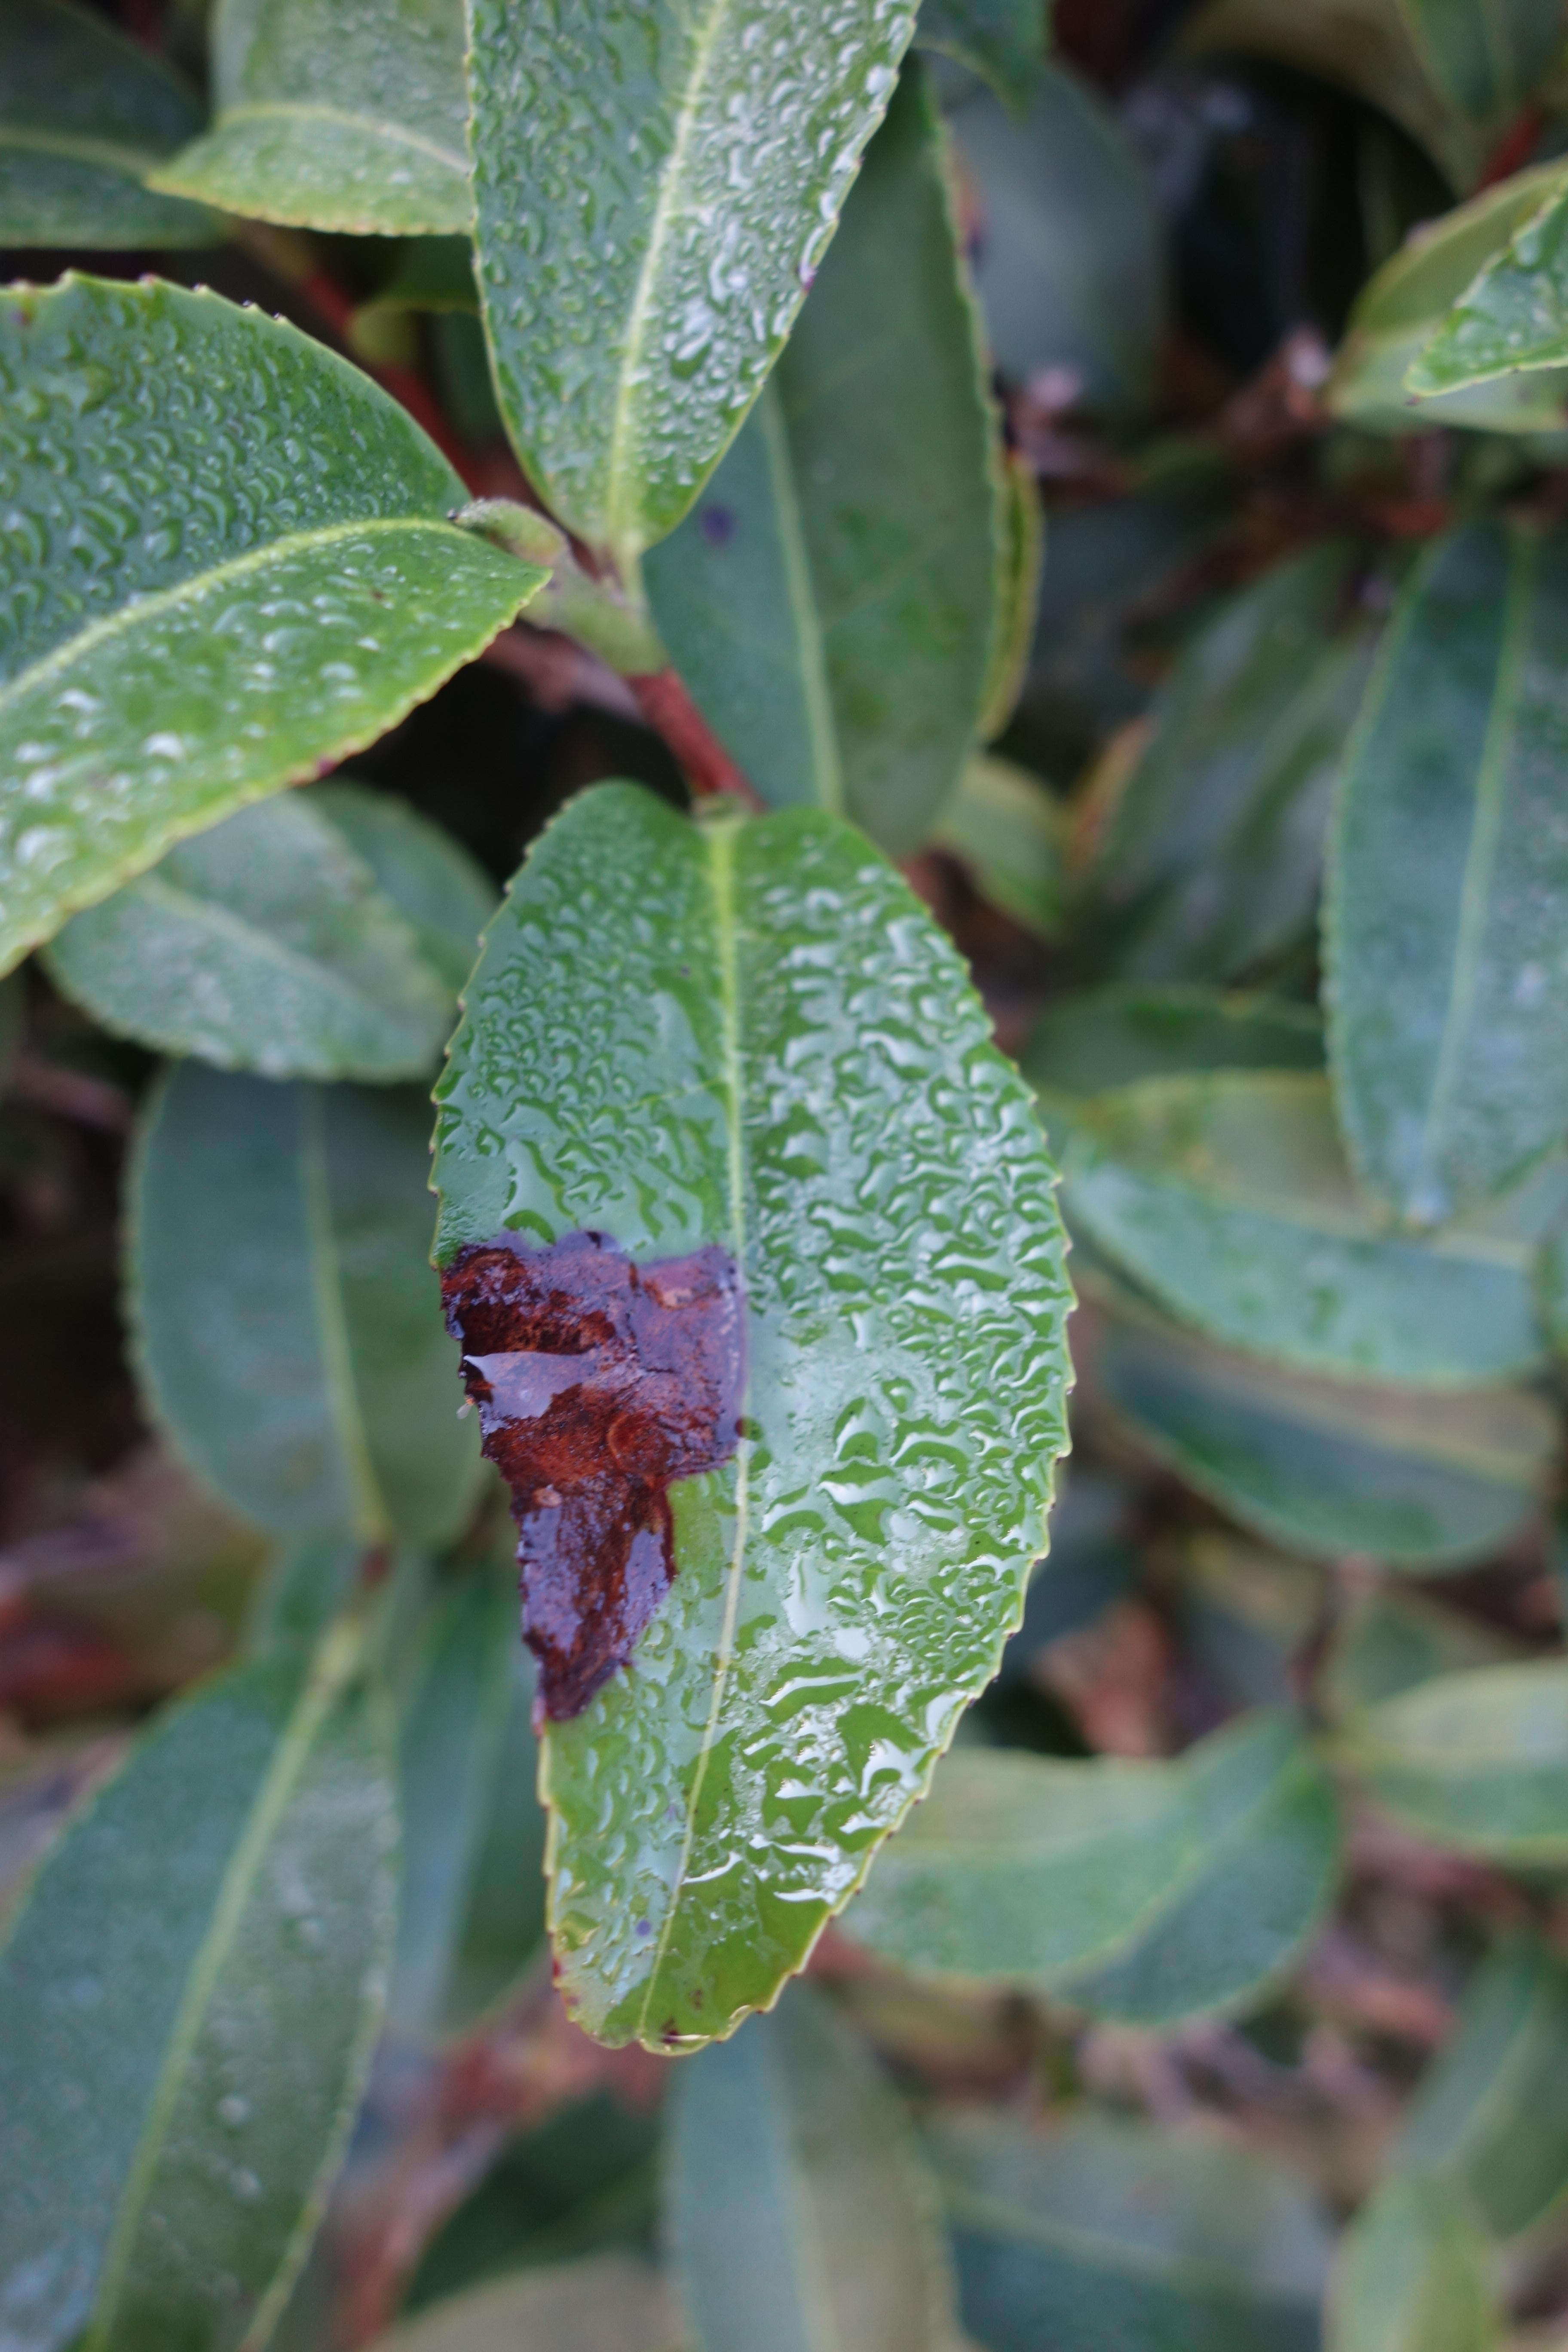tanju_high: (416, 780, 1081, 2058)
